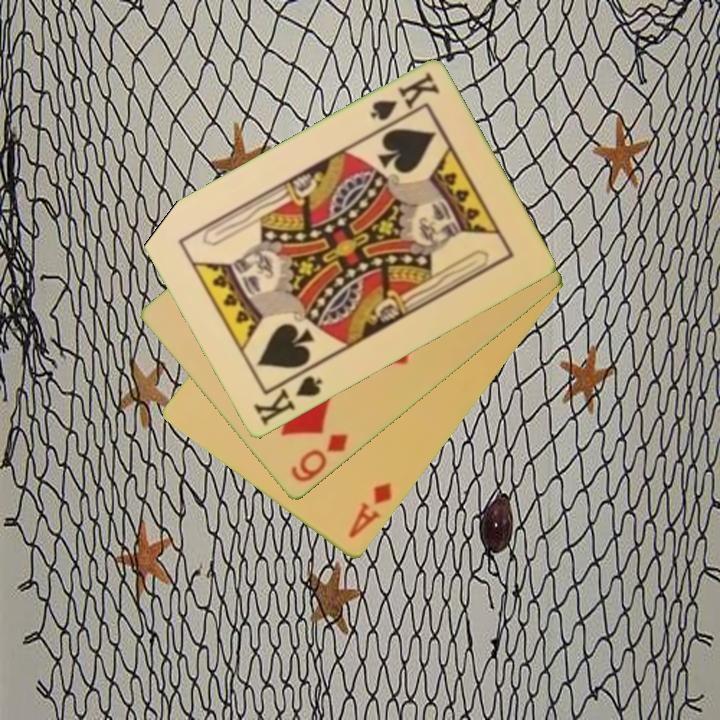6d: (287, 430, 352, 486)
Ad: (345, 479, 395, 542)
Ks: (250, 364, 326, 429), (366, 69, 443, 125)
